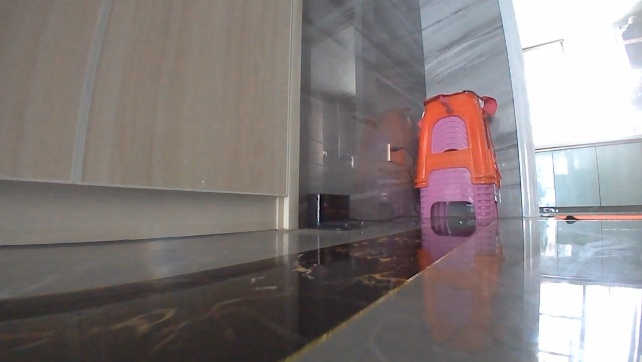blanket: (552, 211, 641, 223)
charger: (302, 190, 366, 232)
cupboard: (531, 132, 641, 215)
wire: (350, 146, 421, 224)
